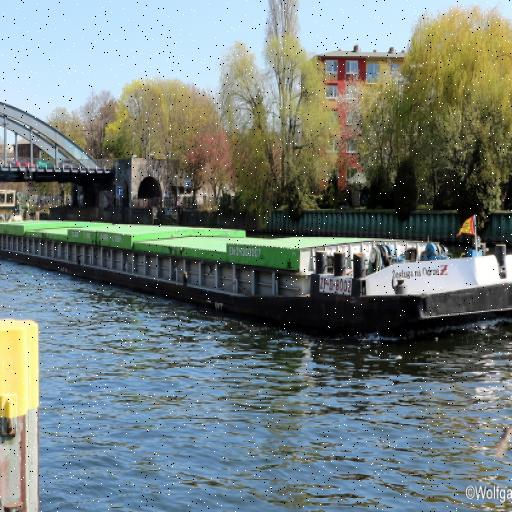tugboat: (1, 186, 44, 258)
